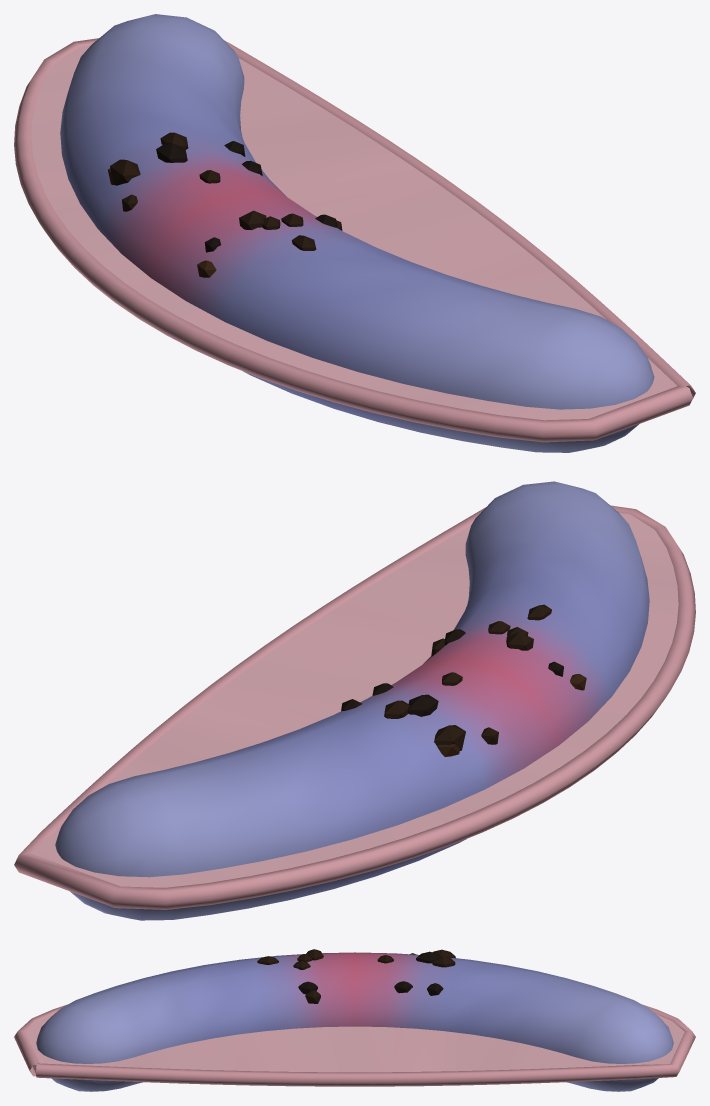
File: PlasmodiumFalciparum.fbx
3 renders of one model, top to bottom at view 1: azimuth 30°, elevation 25°; view 2: azimuth 150°, elevation 25°; view 3: azimuth 270°, elevation 25°, orthographic. The views are drawn at different scales.
Visible parts, largest first — view 1: PlasmodiumFalciparum; view 2: PlasmodiumFalciparum; view 3: PlasmodiumFalciparum.
Boxes of the visible parts, box(x1,y1,x2,y2) form: PlasmodiumFalciparum: box(14, 14, 695, 452); PlasmodiumFalciparum: box(14, 481, 695, 920); PlasmodiumFalciparum: box(14, 949, 695, 1091).
Bounding box in the file's own units: 0.6479 × 0.2536 × 1.61.
